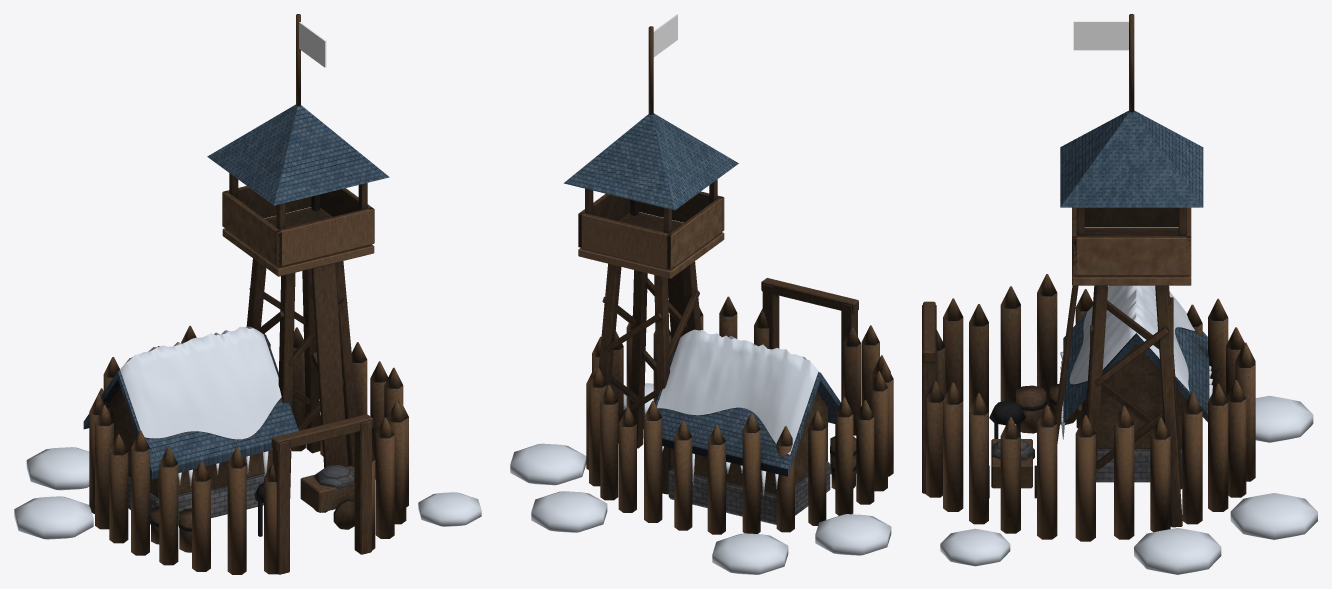
File: wacht_outpost.glb
3 renders of one model, left to right at view 1: azimuth 30°, elevation 25°; view 2: azimuth 150°, elevation 25°; view 3: azimuth 270°, elevation 25°, orthographic. The views are drawn at different scales.
Parts seen in each view (by area): view 1: wacht_outpost, Schnee, Fahne1; view 2: wacht_outpost, Schnee, Fahne1; view 3: wacht_outpost, Schnee, Fahne1.
Part boxes in pixels (left/top/right/bottom): wacht_outpost: left=83, top=14, right=408, bottom=574; Schnee: left=14, top=326, right=481, bottom=539; Fahne1: left=299, top=22, right=326, bottom=67; wacht_outpost: left=564, top=26, right=893, bottom=534; Schnee: left=510, top=329, right=891, bottom=574; Fahne1: left=653, top=14, right=677, bottom=57; wacht_outpost: left=922, top=14, right=1255, bottom=541; Schnee: left=940, top=285, right=1317, bottom=574; Fahne1: left=1073, top=21, right=1128, bottom=50.
Size of the model in its own units: 5.15 by 6.08 by 4.31.
3 materials, 1 textured.
